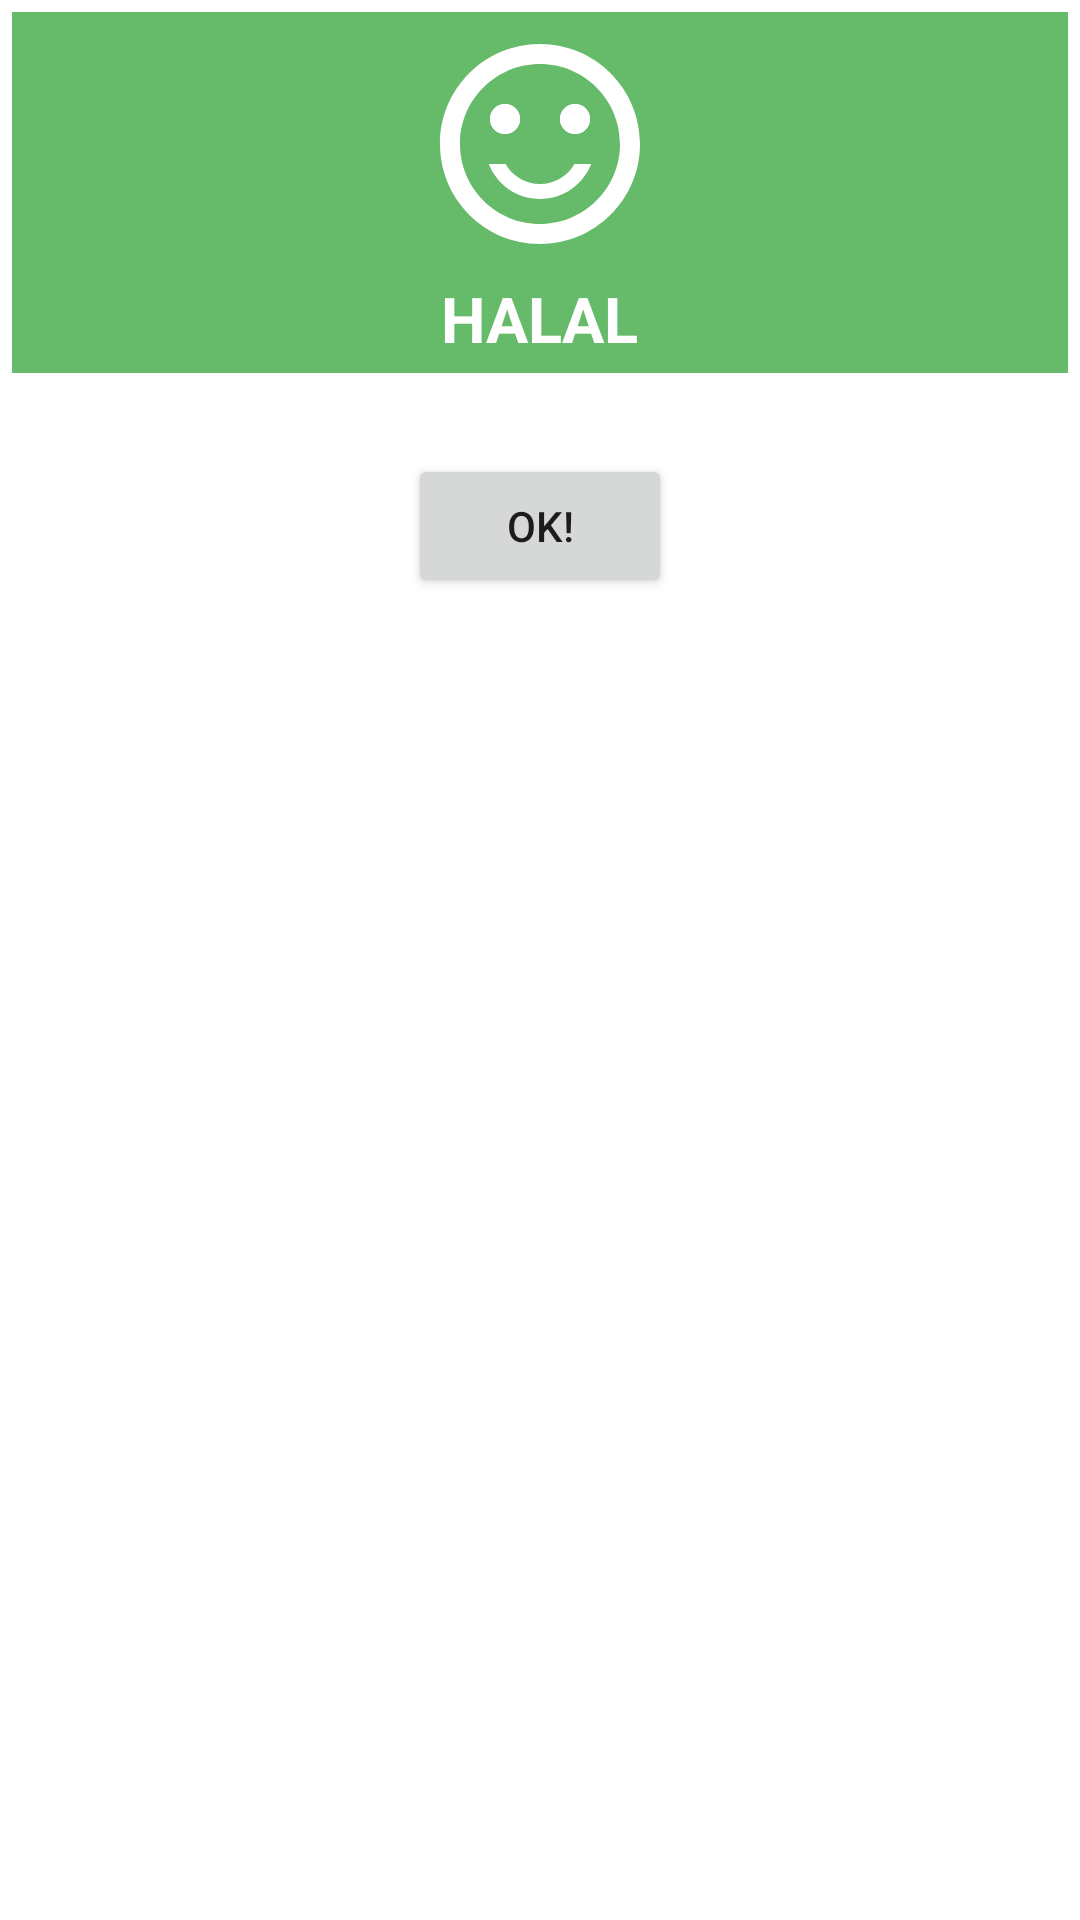

Icons on this 1080x1920 Android screen, each with its box as (x1, y1, x2, y2):
smile: (440, 44, 640, 244)
